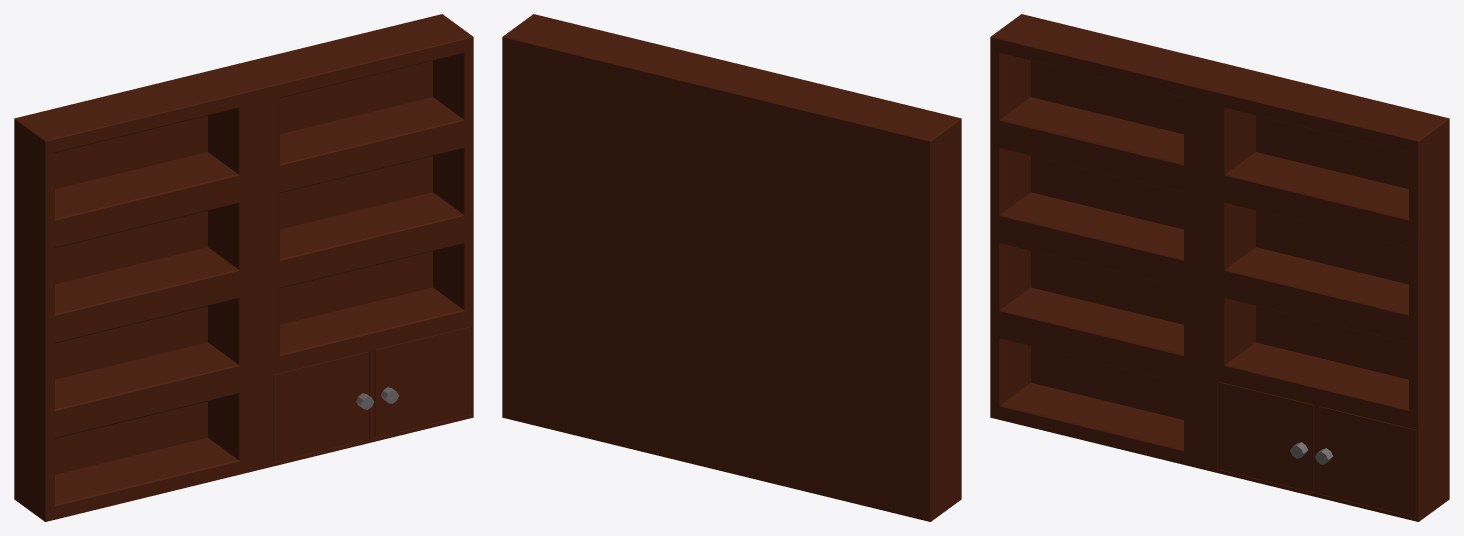
The model's file is estante-livros.glb.
3 views of the same model, side by side, from view 1: azimuth 30°, elevation 25°; view 2: azimuth 150°, elevation 25°; view 3: azimuth 330°, elevation 25° (orthographic).
Parts seen in each view (by area): view 1: MediumBookShelf1, DoorLeft1_MediumBookShelf1, DoorRight1_MediumBookShelf1; view 2: MediumBookShelf1; view 3: MediumBookShelf1, DoorLeft1_MediumBookShelf1, DoorRight1_MediumBookShelf1.
Part boxes in pixels (left/top/right/bottom): MediumBookShelf1: left=14, top=14, right=473, bottom=521; DoorLeft1_MediumBookShelf1: left=374, top=326, right=471, bottom=437; DoorRight1_MediumBookShelf1: left=273, top=351, right=374, bottom=462; MediumBookShelf1: left=502, top=14, right=961, bottom=521; MediumBookShelf1: left=990, top=14, right=1449, bottom=521; DoorLeft1_MediumBookShelf1: left=1315, top=406, right=1416, bottom=517; DoorRight1_MediumBookShelf1: left=1218, top=381, right=1314, bottom=492.
Bounding box in the file's own units: 1.77 × 1.5 × 0.2796.
